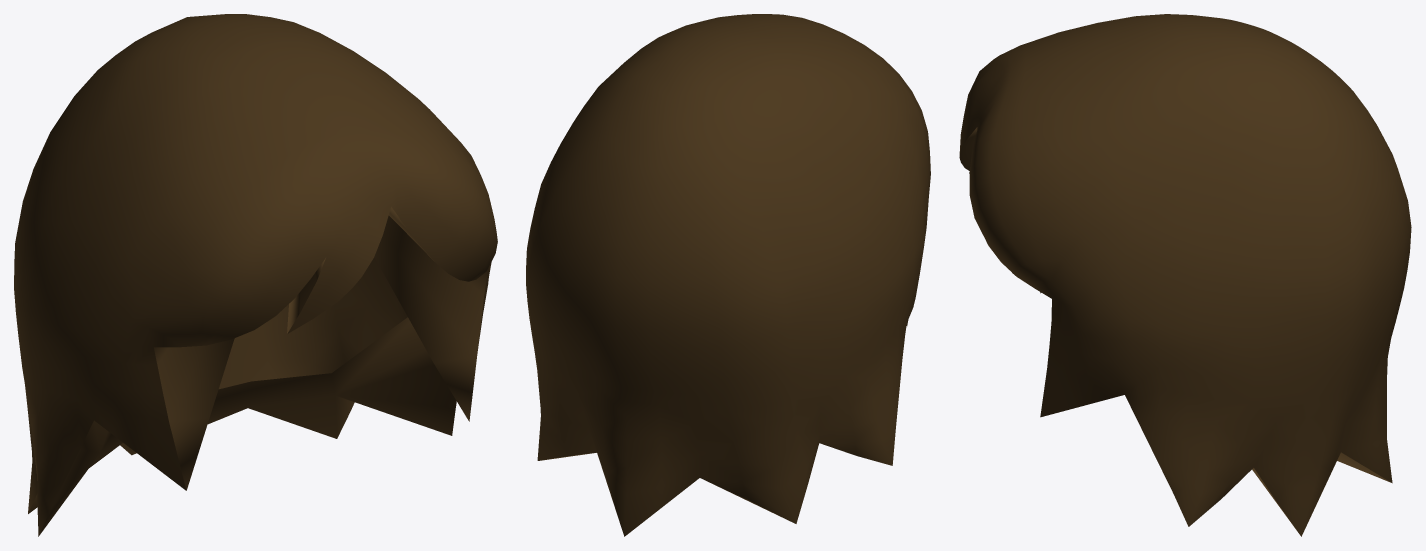
File: hair_074.gltf
The picture shows the model from 3 angles, left to right: view 1: azimuth 30°, elevation 25°; view 2: azimuth 150°, elevation 25°; view 3: azimuth 270°, elevation 25°; orthographic projection. The views are drawn at different scales.
Visible parts, largest first — view 1: hair.134; view 2: hair.134; view 3: hair.134.
Boxes of the visible parts, x1=… form: hair.134: x1=14, y1=14, x2=497, y2=536; hair.134: x1=526, y1=14, x2=930, y2=536; hair.134: x1=959, y1=14, x2=1411, y2=536.
Bounding box in the file's own units: 0.1203 × 0.1399 × 0.1269.
